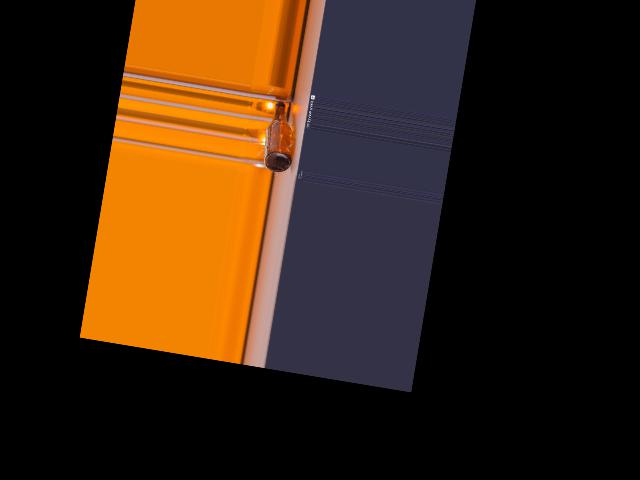beer: (259, 101, 302, 175)
